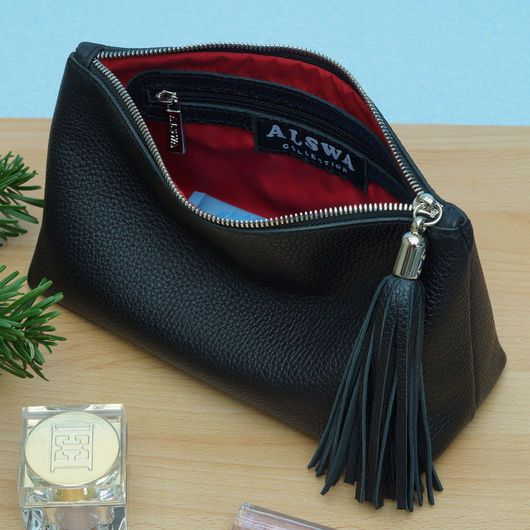cuero: (27, 40, 507, 482)
